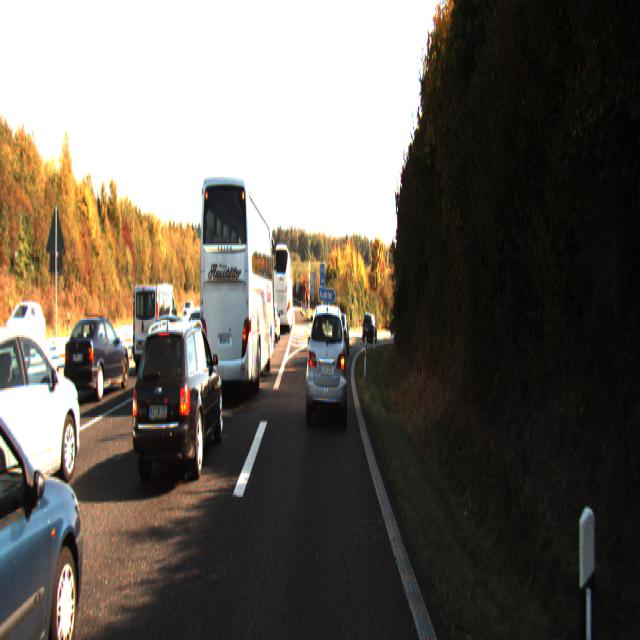Car: (0, 358, 93, 638), (197, 171, 274, 408), (0, 317, 85, 531), (127, 316, 224, 494), (63, 314, 131, 404), (305, 301, 348, 428), (131, 280, 177, 369), (272, 244, 292, 334), (334, 314, 351, 360), (362, 312, 378, 341)
